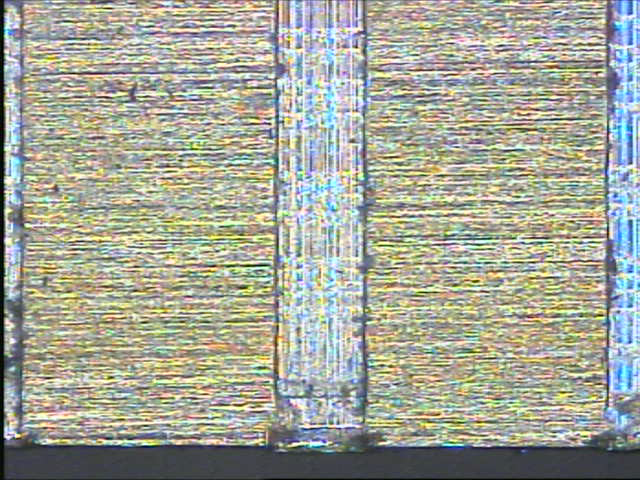line: (265, 1, 377, 451)
